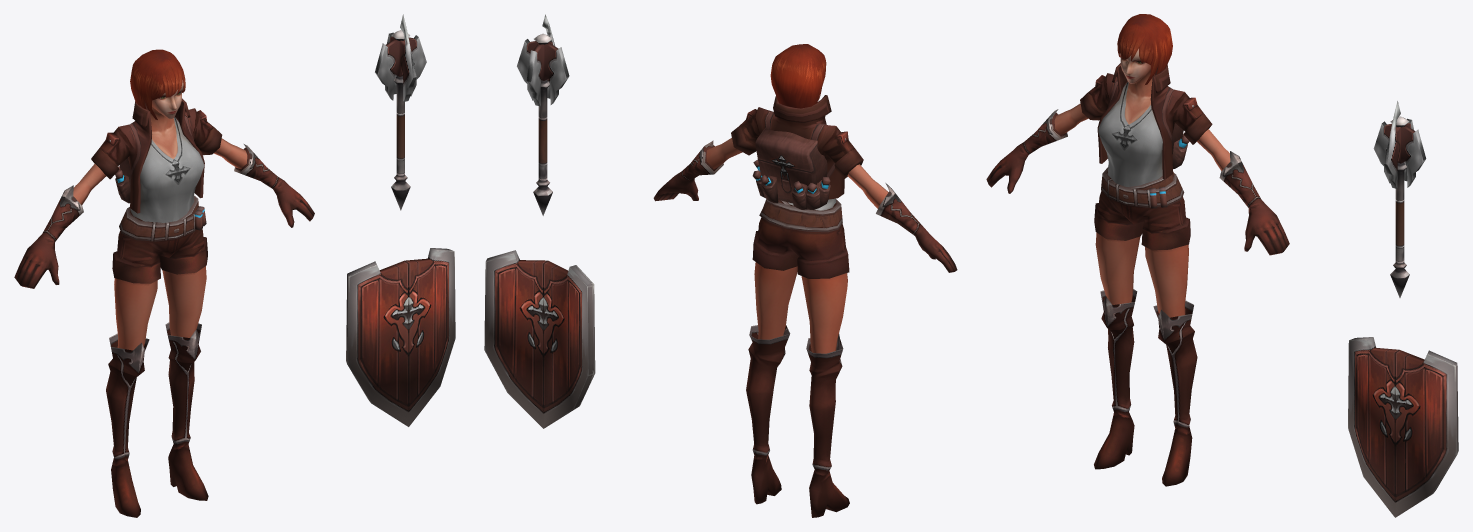
The picture shows the model from 3 angles, left to right: view 1: azimuth 30°, elevation 25°; view 2: azimuth 150°, elevation 25°; view 3: azimuth 330°, elevation 25°; orthographic projection.
Parts seen in each view (by area): view 1: Object128; view 2: Object128; view 3: Object128.
Part boxes in pixels (box(x1,y1,x2,y2)): Object128: box(14, 14, 455, 517); Object128: box(484, 14, 957, 517); Object128: box(986, 14, 1458, 517).
Size of the model in its own units: 1.82 by 1.73 by 0.2824.
Materials: 1 (1 with a texture image).
